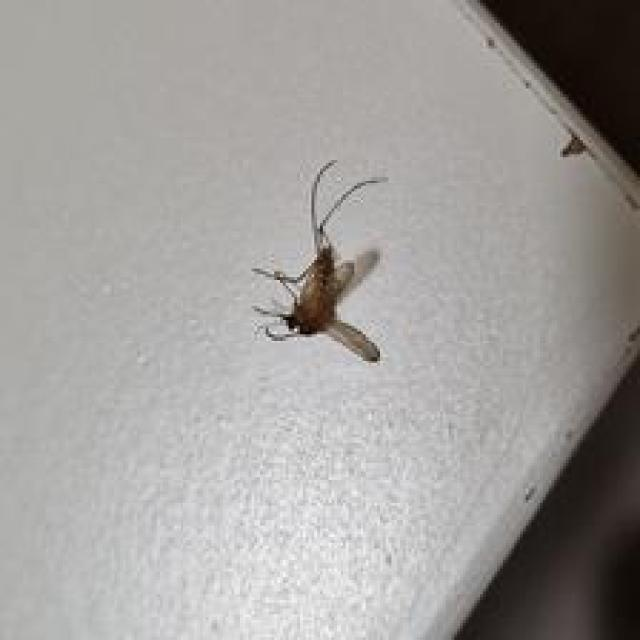Culex: (250, 157, 390, 366)
